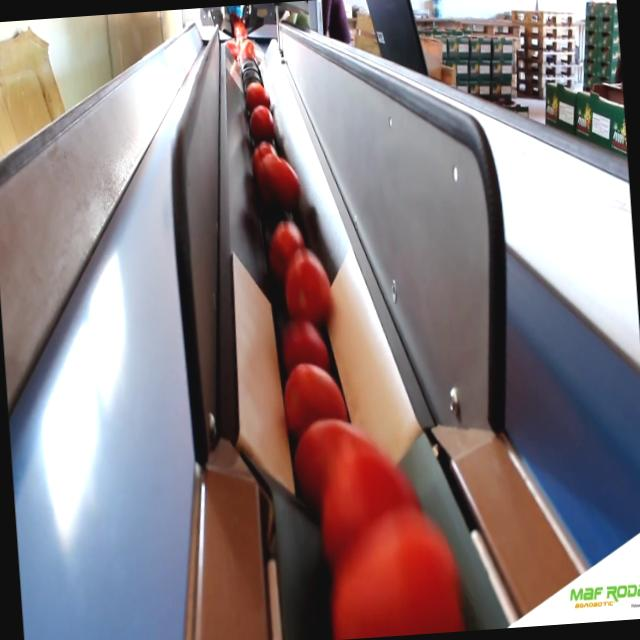Tomato: (330, 522, 461, 640), (324, 446, 420, 530), (280, 362, 348, 428), (284, 252, 335, 327), (295, 416, 354, 475), (260, 152, 304, 208), (280, 323, 330, 368), (268, 219, 304, 267), (247, 104, 277, 145), (244, 80, 272, 106), (240, 40, 256, 59)
